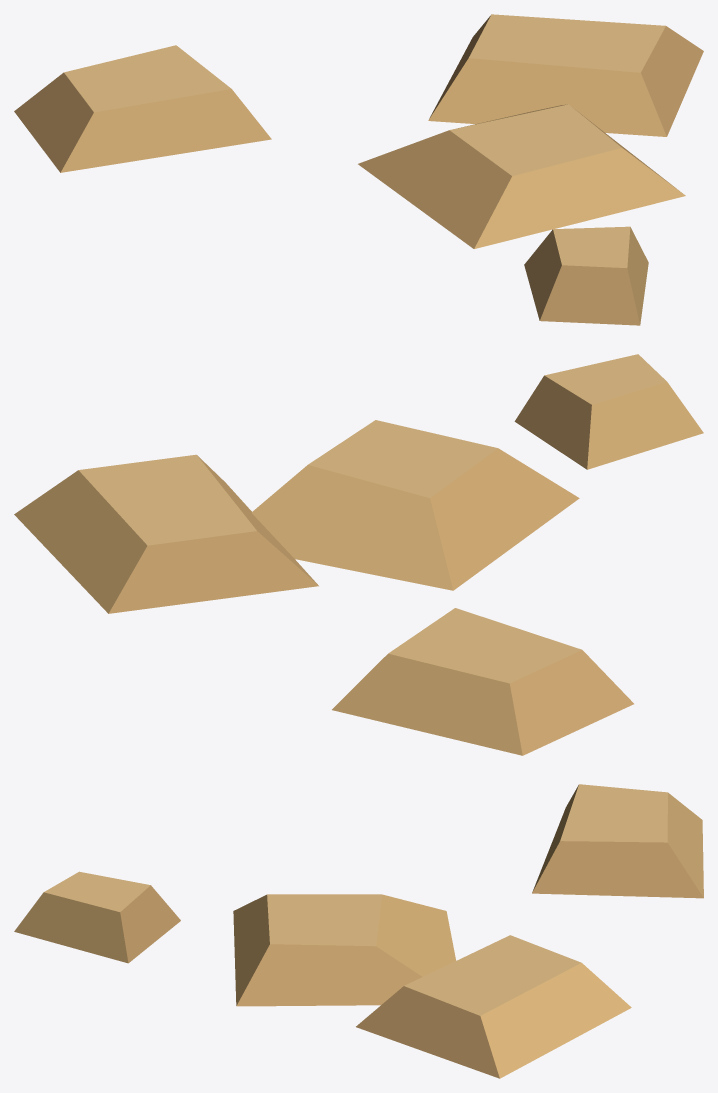
File: ST_Prop_Rocks_01.fbx
The picture shows the model from 3 angles, top to bottom: view 1: azimuth 30°, elevation 25°; view 2: azimuth 150°, elevation 25°; view 3: azimuth 270°, elevation 25°; orthographic projection. The views are drawn at different scales.
Visible parts, largest first — view 1: ST_Prop_Rocks_01.001; view 2: ST_Prop_Rocks_01.001; view 3: ST_Prop_Rocks_01.001.
Boxes of the visible parts, x1,y1,x2,y2 form: ST_Prop_Rocks_01.001: (14, 14, 703, 325); ST_Prop_Rocks_01.001: (14, 354, 703, 755); ST_Prop_Rocks_01.001: (14, 784, 703, 1078).
Bounding box in the file's own units: 0.6025 × 0.0434 × 0.6473.
